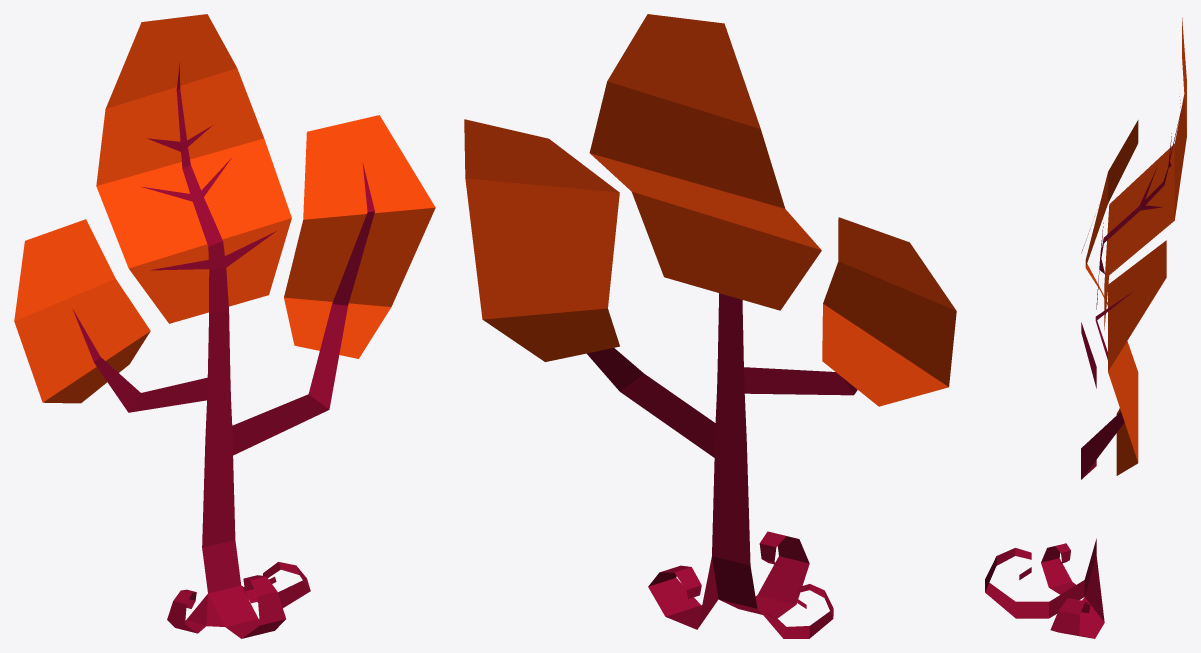
Rendered from tree_2.FBX.
3 views of the same model, side by side, from view 1: azimuth 30°, elevation 25°; view 2: azimuth 150°, elevation 25°; view 3: azimuth 270°, elevation 25° (orthographic). The views are drawn at different scales.
Parts seen in each view (by area): view 1: tree_B_v2_leaf, tree_B_v2_base; view 2: tree_B_v2_leaf, tree_B_v2_base; view 3: tree_B_v2_leaf, tree_B_v2_base.
Part boxes in pixels (box(x1,y1,x2,y2)): tree_B_v2_leaf: box(14, 14, 435, 403); tree_B_v2_base: box(73, 63, 374, 638); tree_B_v2_leaf: box(464, 14, 956, 406); tree_B_v2_base: box(587, 293, 857, 638); tree_B_v2_leaf: box(1085, 17, 1186, 475); tree_B_v2_base: box(985, 96, 1181, 638).
Size of the model in its own units: 10464 by 4222 by 13345.
